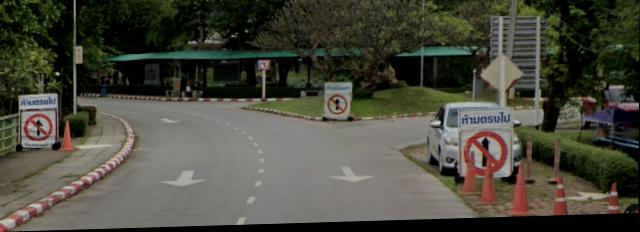not_go_straight: (464, 133, 508, 177), (22, 113, 54, 143), (329, 97, 348, 117), (261, 61, 268, 71)
